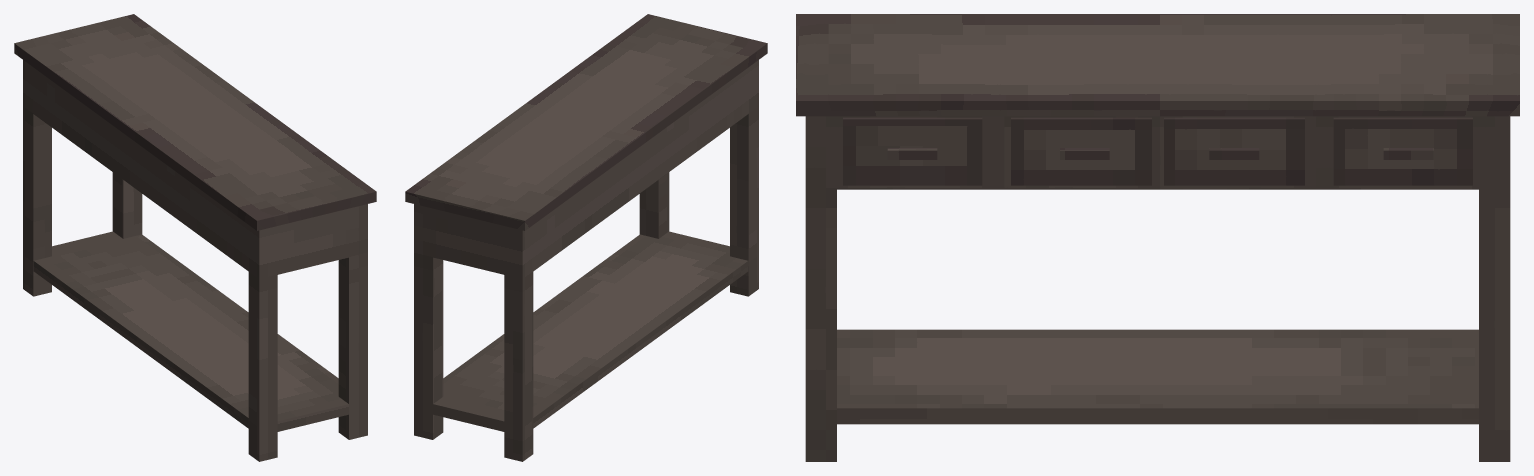
File: Side table.fbx
3 views of the same model, side by side, from view 1: azimuth 30°, elevation 25°; view 2: azimuth 150°, elevation 25°; view 3: azimuth 270°, elevation 25° (orthographic). The views are drawn at different scales.
Visible parts, largest first — view 1: Cube.003; view 2: Cube.003; view 3: Cube.003.
Part boxes in pixels (x1,y1,x2,y2): Cube.003: (14,14,376,461); Cube.003: (405,14,767,461); Cube.003: (796,14,1519,461).
Size of the model in its own units: 124 by 241 by 434.
1 material, 1 textured.
